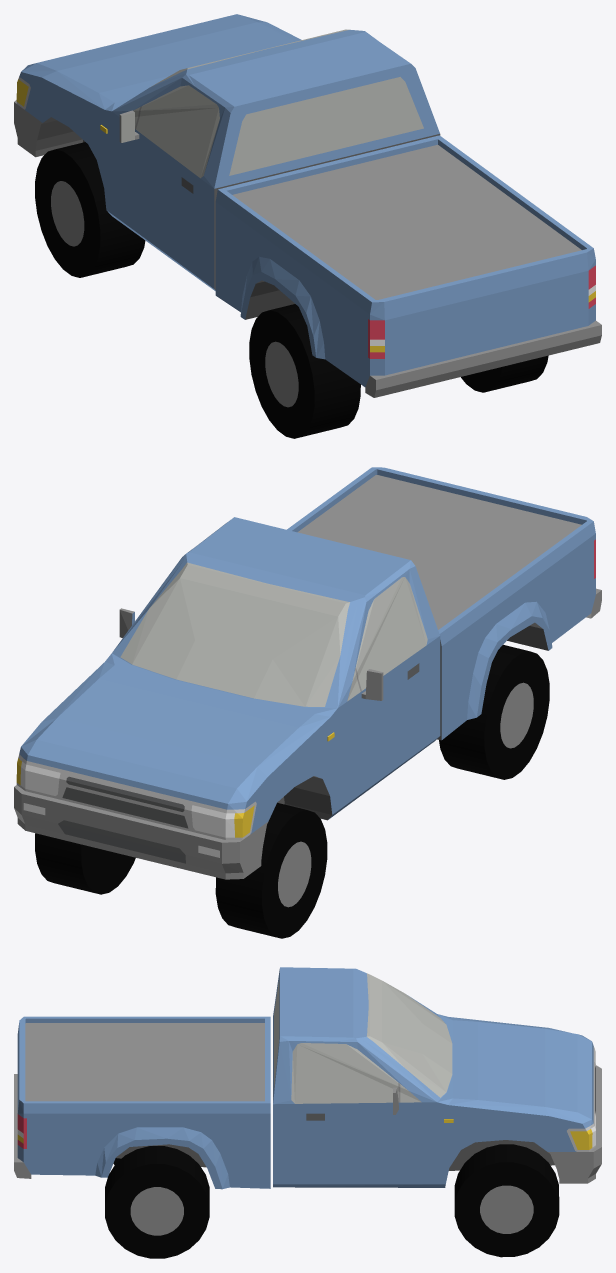
The picture shows the model from 3 angles, top to bottom: view 1: azimuth 30°, elevation 25°; view 2: azimuth 150°, elevation 25°; view 3: azimuth 270°, elevation 25°; orthographic projection. The views are drawn at different scales.
Visible parts, largest first — view 1: Mesh1 Model, Mesh5 Model, Mesh4 Model, Mesh2 Model; view 2: Mesh1 Model, Mesh4 Model, Mesh5 Model, Mesh3 Model; view 3: Mesh1 Model, Mesh3 Model, Mesh2 Model.
Boxes of the visible parts, x1=… form: Mesh1 Model: x1=14, y1=14, x2=601, y2=397; Mesh5 Model: x1=249, y1=304, x2=360, y2=438; Mesh4 Model: x1=35, y1=142, x2=145, y2=277; Mesh2 Model: x1=461, y1=355, x2=548, y2=392; Mesh1 Model: x1=14, y1=467, x2=601, y2=879; Mesh4 Model: x1=215, y1=802, x2=327, y2=938; Mesh5 Model: x1=439, y1=644, x2=549, y2=779; Mesh3 Model: x1=35, y1=833, x2=135, y2=894; Mesh1 Model: x1=14, y1=967, x2=601, y2=1189; Mesh3 Model: x1=454, y1=1144, x2=559, y2=1257; Mesh2 Model: x1=105, y1=1146, x2=209, y2=1258.
Size of the model in its own units: 134 by 129 by 326.
